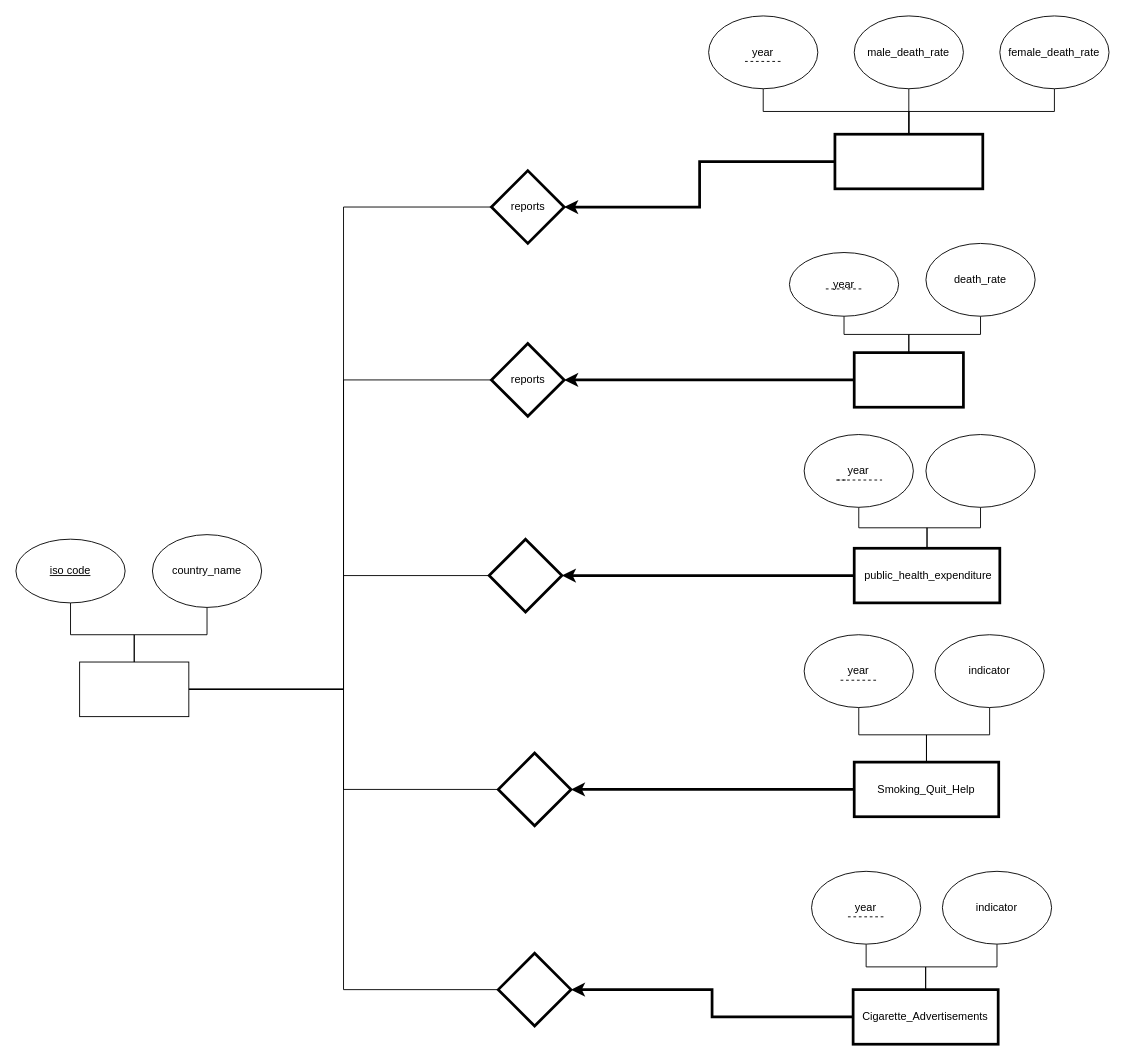
Some shapes in this 1126 by 1061 pixel diagram are drawn without their labels. The shapes that lost their labels are listed below. From the top down, each one's centre as x and y in pixels, then its label:
At pixel 908 161: "lung_cancer_death_rates".
At pixel 908 379: "Smoking_Deaths".
At pixel 980 470: "expenditure_pc_gdp".
At pixel 525 575: "determines".
At pixel 134 689: "Country".
At pixel 534 789: "announces".
At pixel 534 989: "regulates".
